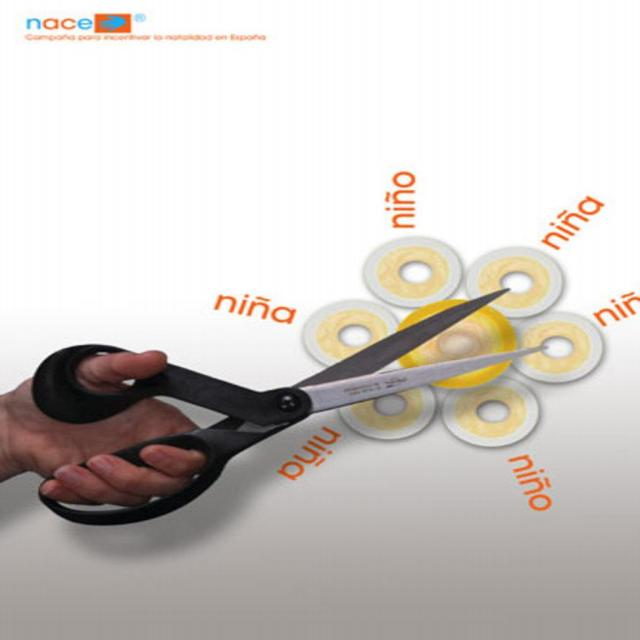scissor: (31, 280, 552, 526)
